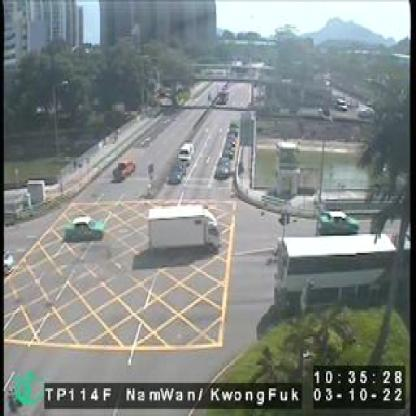Bus: (274, 234, 410, 309)
Car: (60, 217, 104, 241), (317, 211, 358, 234), (113, 156, 134, 179), (166, 163, 184, 184), (177, 140, 192, 162), (216, 156, 229, 177), (222, 146, 234, 158), (224, 136, 236, 148), (226, 128, 238, 137), (229, 125, 239, 132)
Truck: (147, 203, 217, 251)
